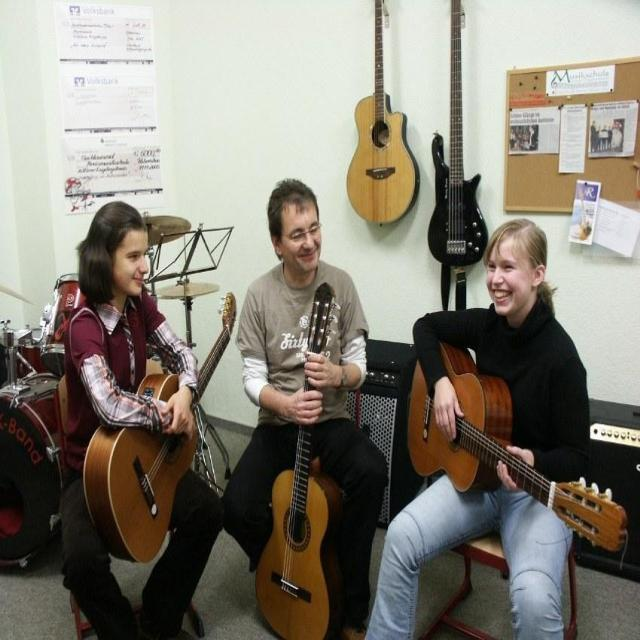drums: (0, 213, 231, 640)
guitar: (402, 325, 628, 559), (84, 292, 241, 570), (250, 279, 341, 640), (343, 0, 419, 228)
